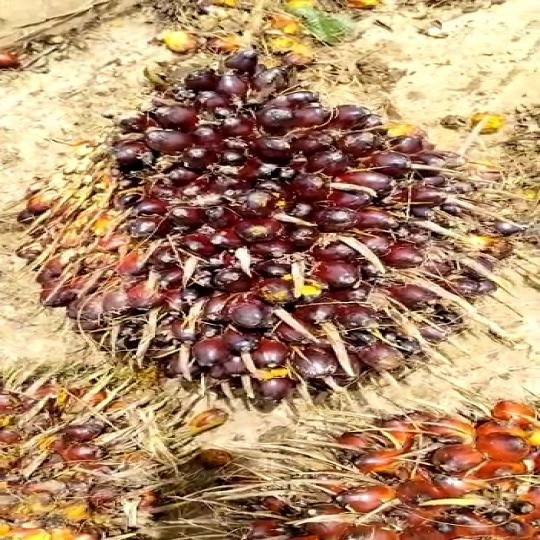mentah: (29, 53, 510, 410)
